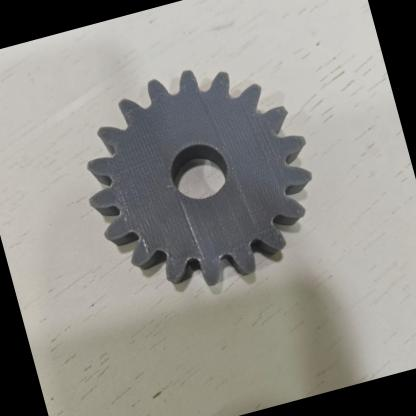gear: (37, 19, 372, 342)
